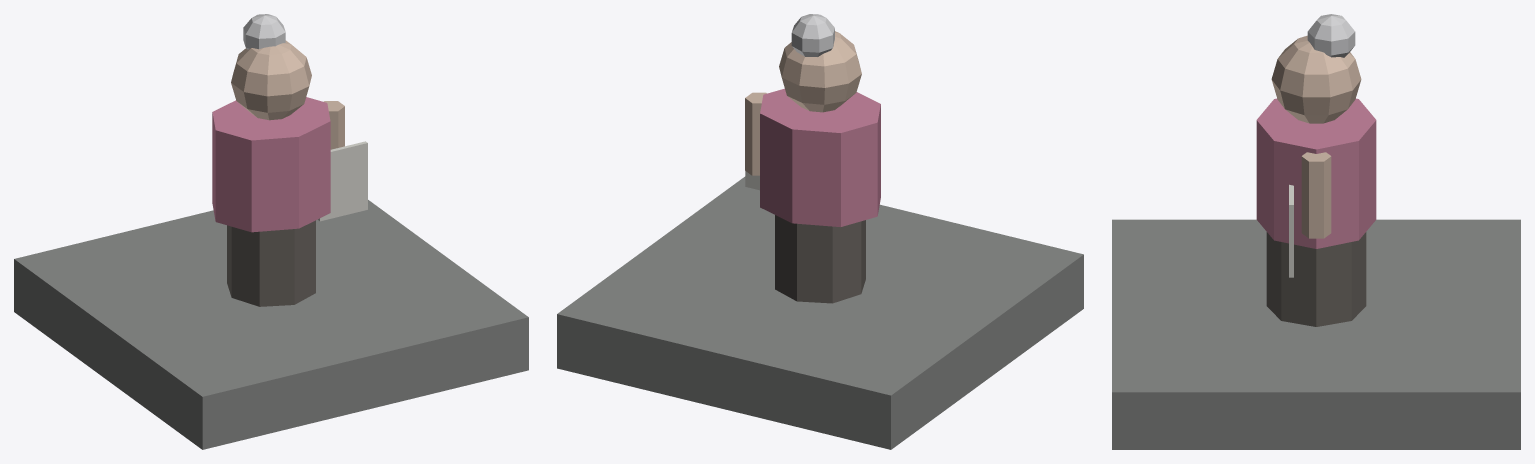
Rendered from human_hoa.glb.
The picture shows the model from 3 angles, left to right: view 1: azimuth 30°, elevation 25°; view 2: azimuth 150°, elevation 25°; view 3: azimuth 270°, elevation 25°; orthographic projection. The views are drawn at different scales.
Parts seen in each view (by area): view 1: Base, TurretMesh, ArmMesh; view 2: Base, TurretMesh, ArmMesh; view 3: Base, TurretMesh, ArmMesh.
Boxes of the visible parts, box(x1,y1,x2,y2) form: Base: box(14, 200, 528, 449); TurretMesh: box(212, 14, 330, 306); ArmMesh: box(318, 101, 367, 221); Base: box(557, 176, 1083, 449); TurretMesh: box(760, 14, 880, 303); ArmMesh: box(745, 92, 766, 190); Base: box(1112, 219, 1520, 449); TurretMesh: box(1256, 14, 1376, 326); ArmMesh: box(1289, 152, 1331, 277).
Bounding box in the file's own units: 1.8 × 1.69 × 1.8.
